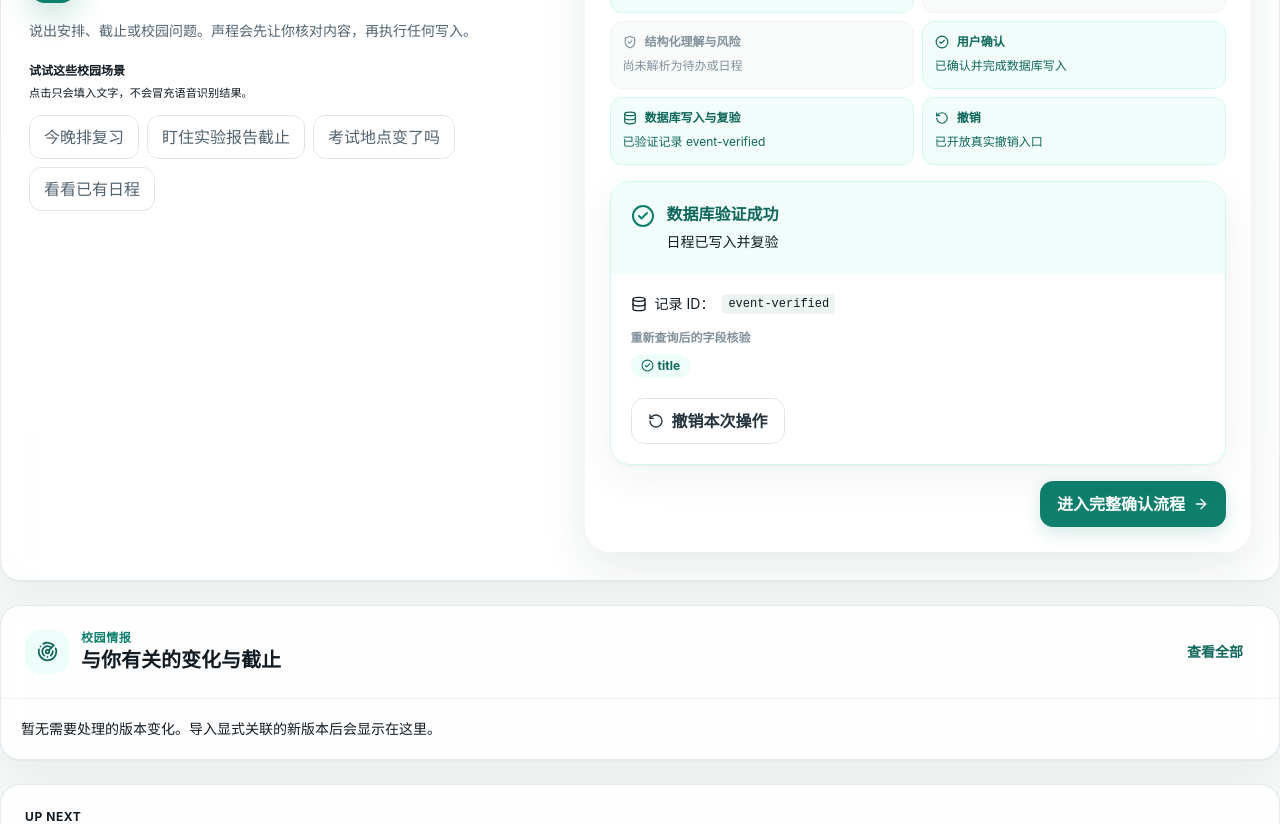
Test: dashboard business states › fails a permanent 409 Home undo closed without any retry path
(page scrolled)
Click the button "撤销本次操作" at (708, 421), box [631,398,785,444]
(page scrolled)
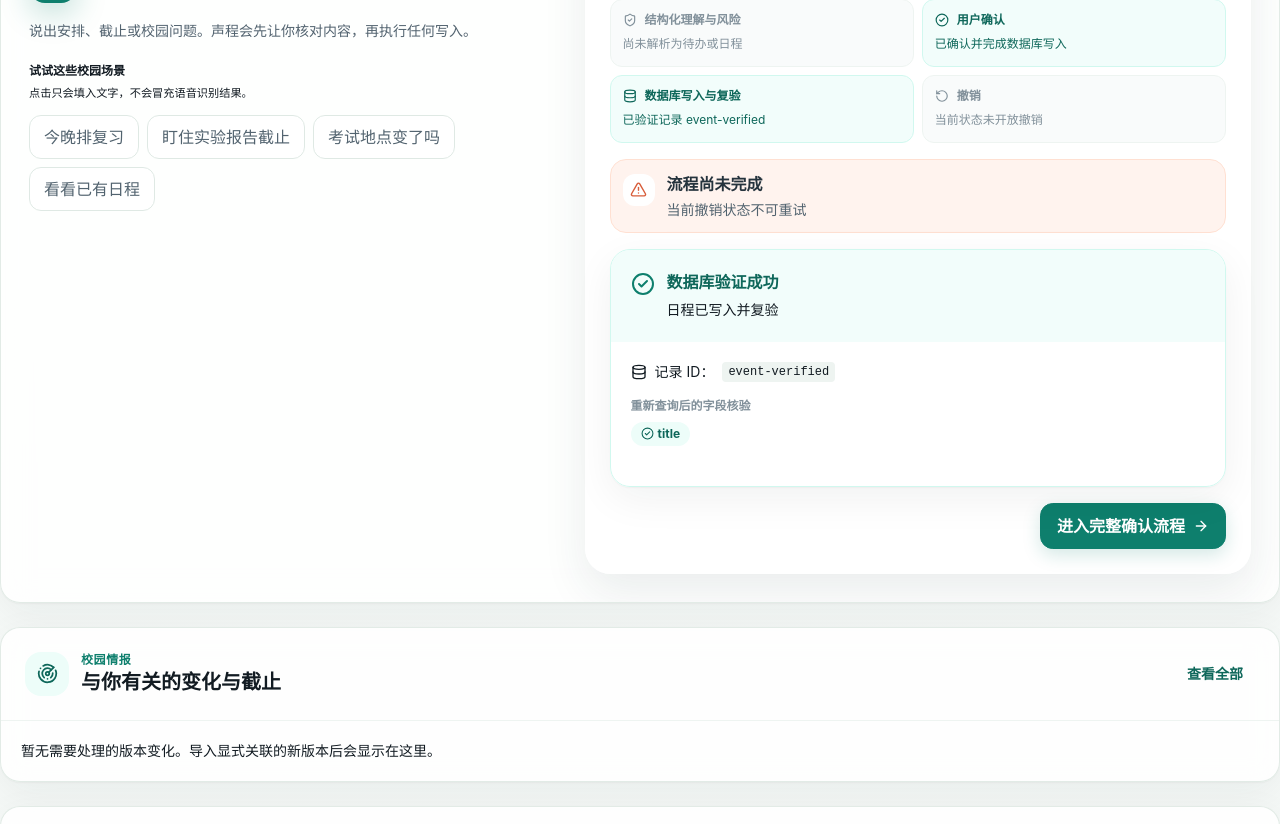
expect the message shows "当前撤销状态不可重试": met, box [667,201,807,218]
expect the button "撤销本次操作" is gone: met
